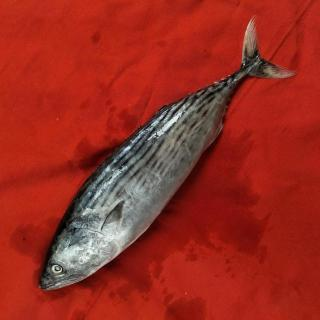Ikan: (34, 24, 290, 302)
